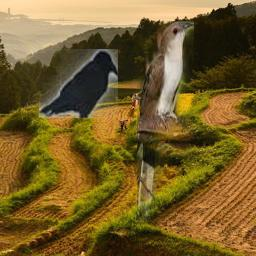Crow: (39, 49, 118, 118)
Cuckoo: (137, 21, 194, 224)
